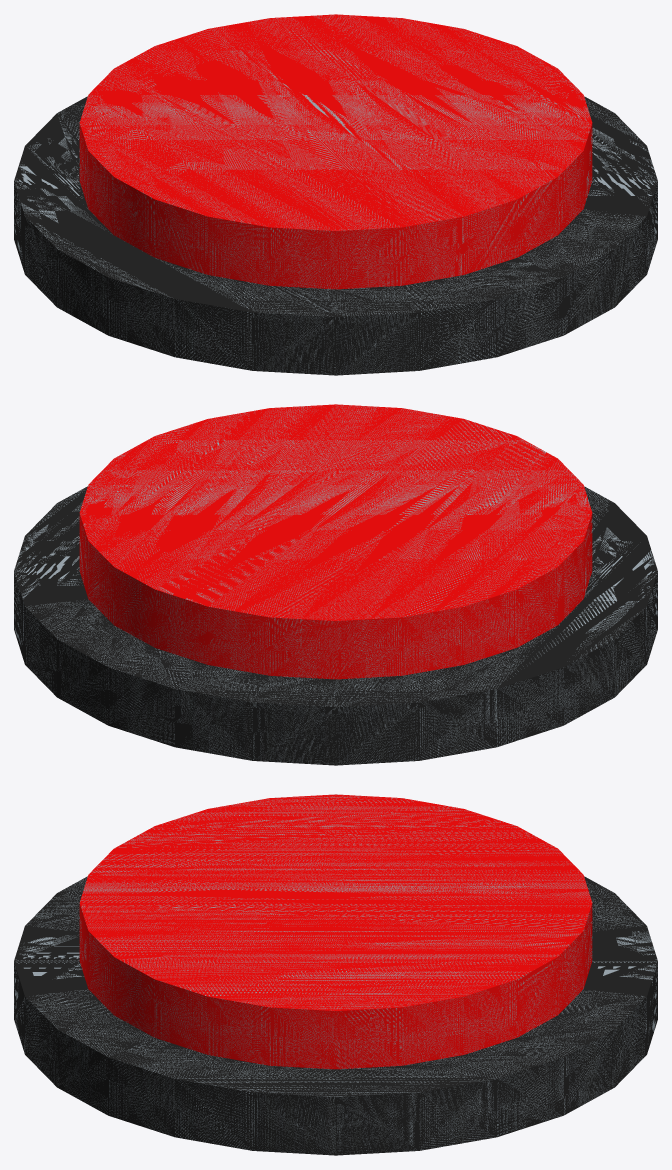
The model's file is Button.dae.
The picture shows the model from 3 angles, top to bottom: view 1: azimuth 30°, elevation 25°; view 2: azimuth 150°, elevation 25°; view 3: azimuth 270°, elevation 25°; orthographic projection.
Visible parts, largest first — view 1: group_0 (×2); view 2: group_0 (×2); view 3: group_0 (×2).
Boxes of the visible parts, <box> form: group_0 (×2): <box>14,14,657,375</box>; group_0 (×2): <box>14,404,657,765</box>; group_0 (×2): <box>14,794,657,1155</box>.
Bounding box in the file's own units: 7.87 × 7.87 × 1.57.
